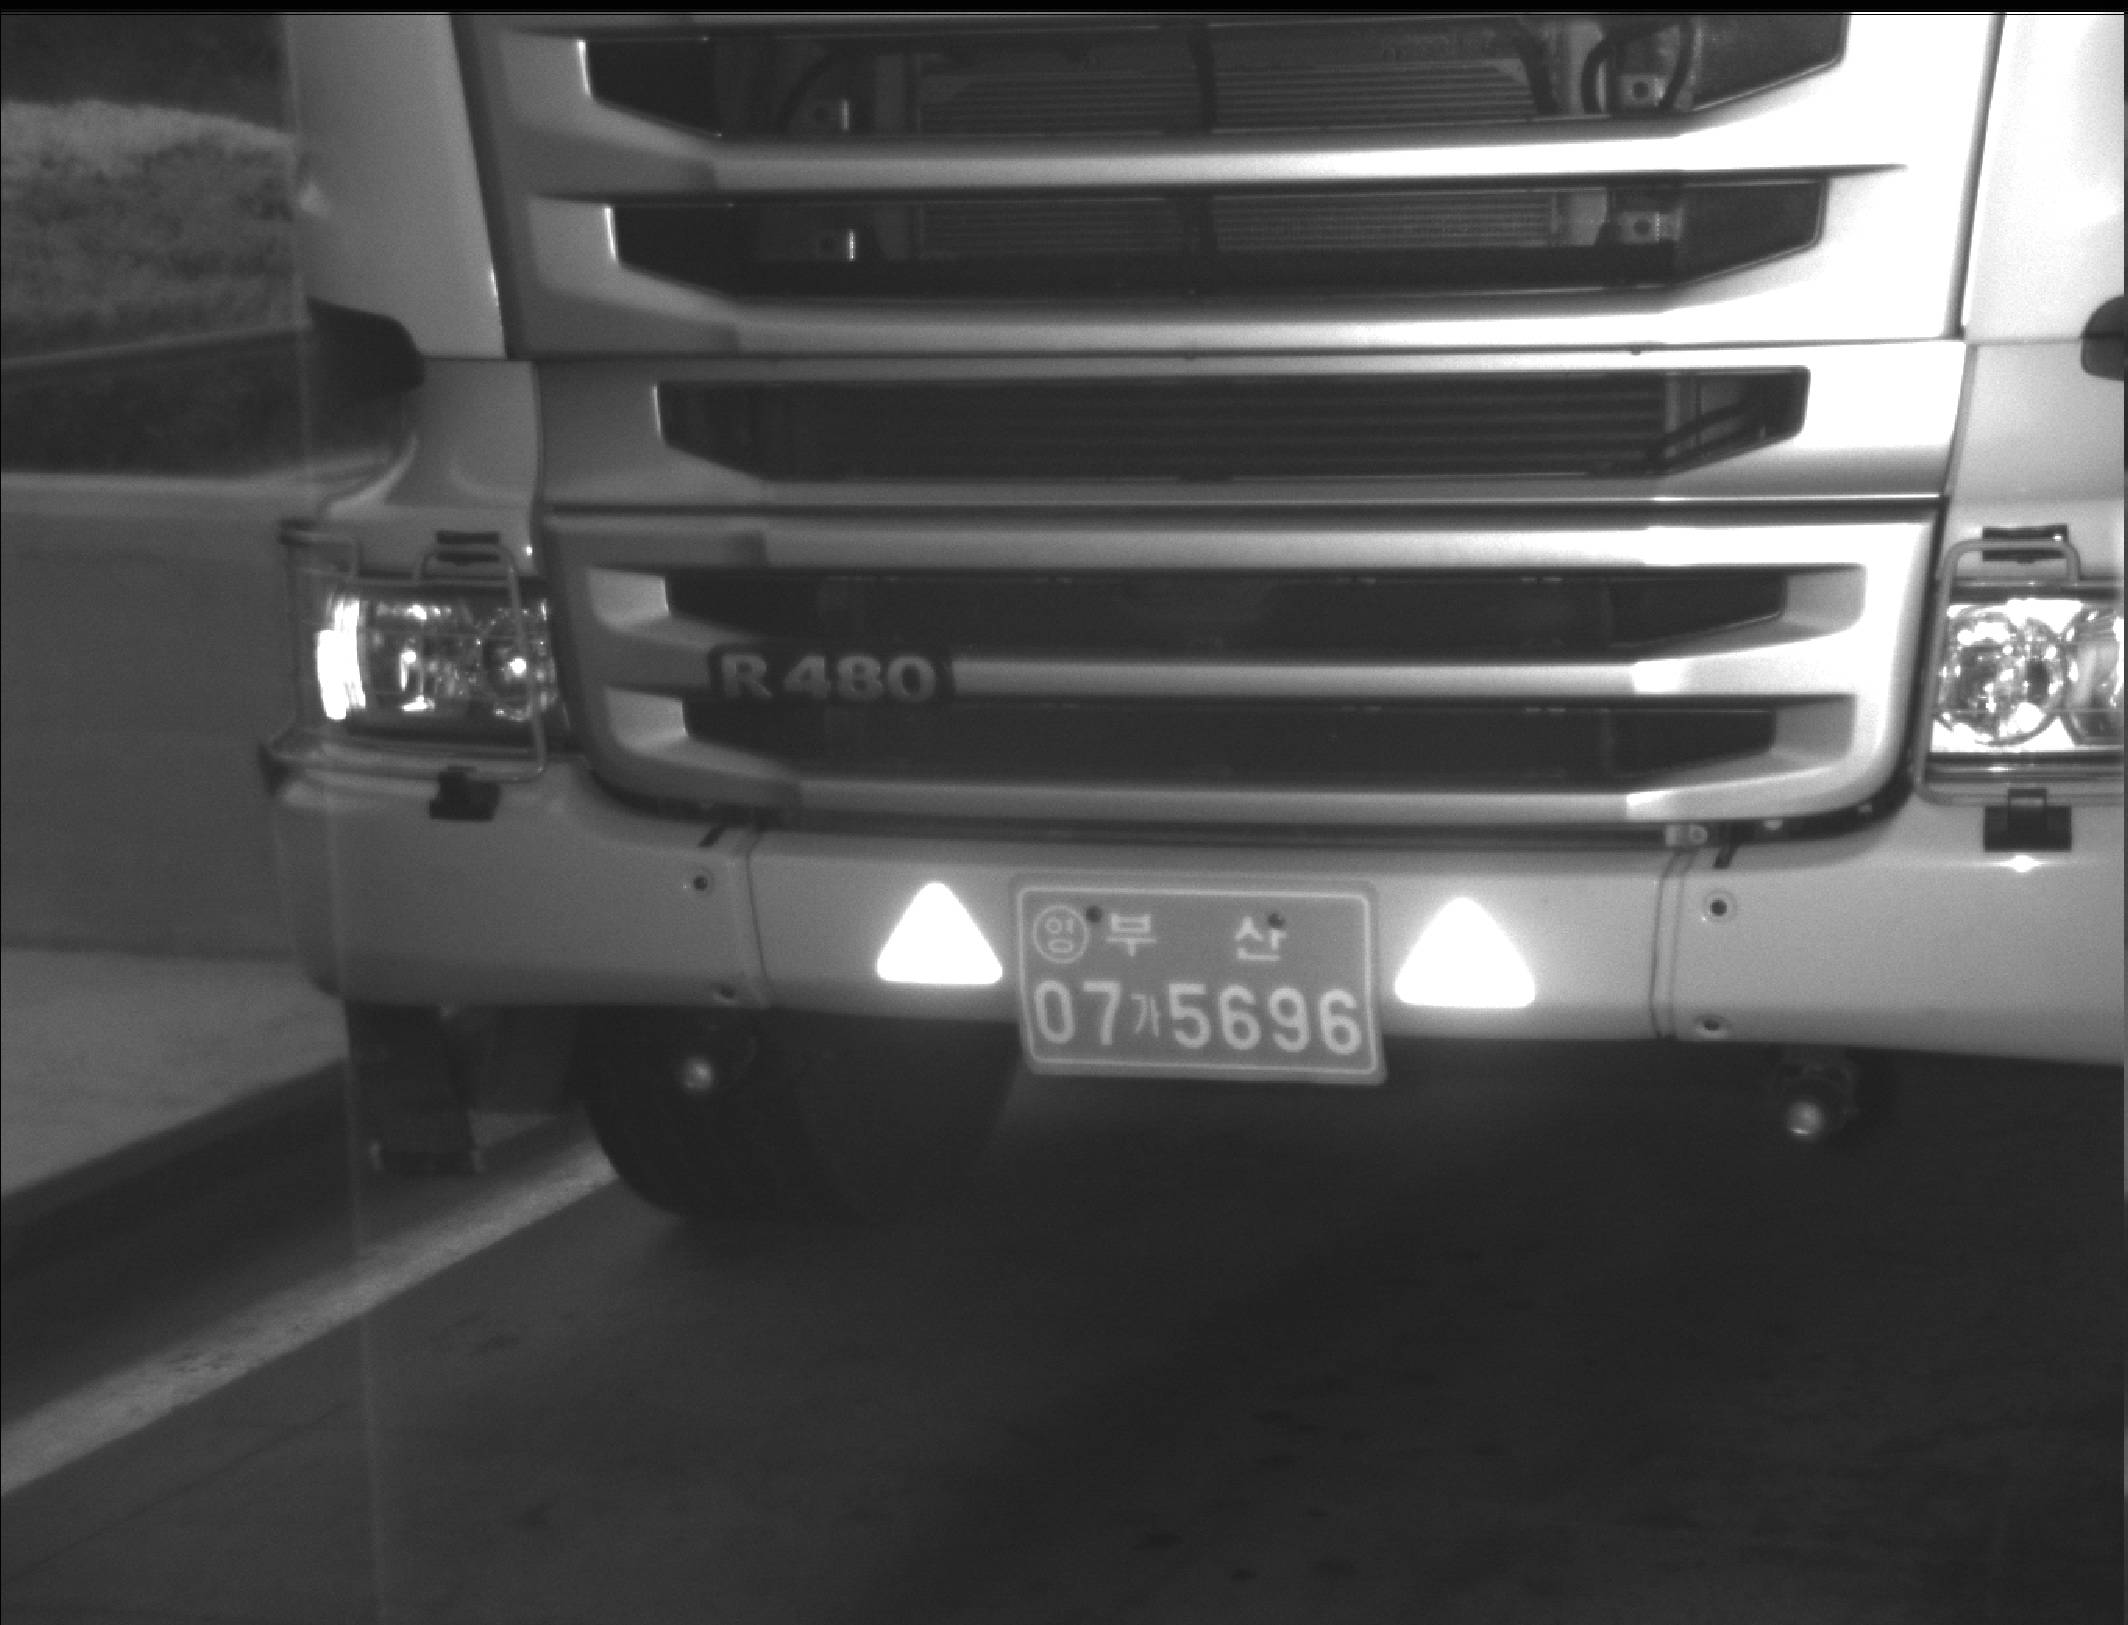car: (251, 1, 2125, 1240)
plate: (1007, 880, 1391, 1089)
